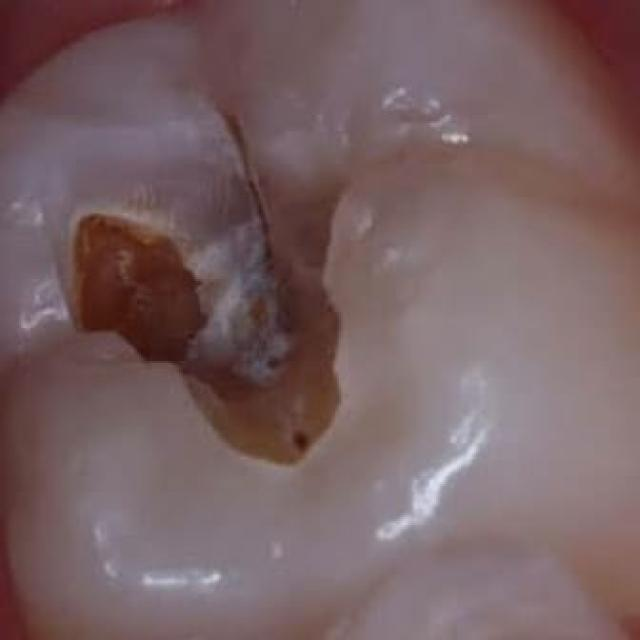Carrier: (63, 203, 351, 473)
